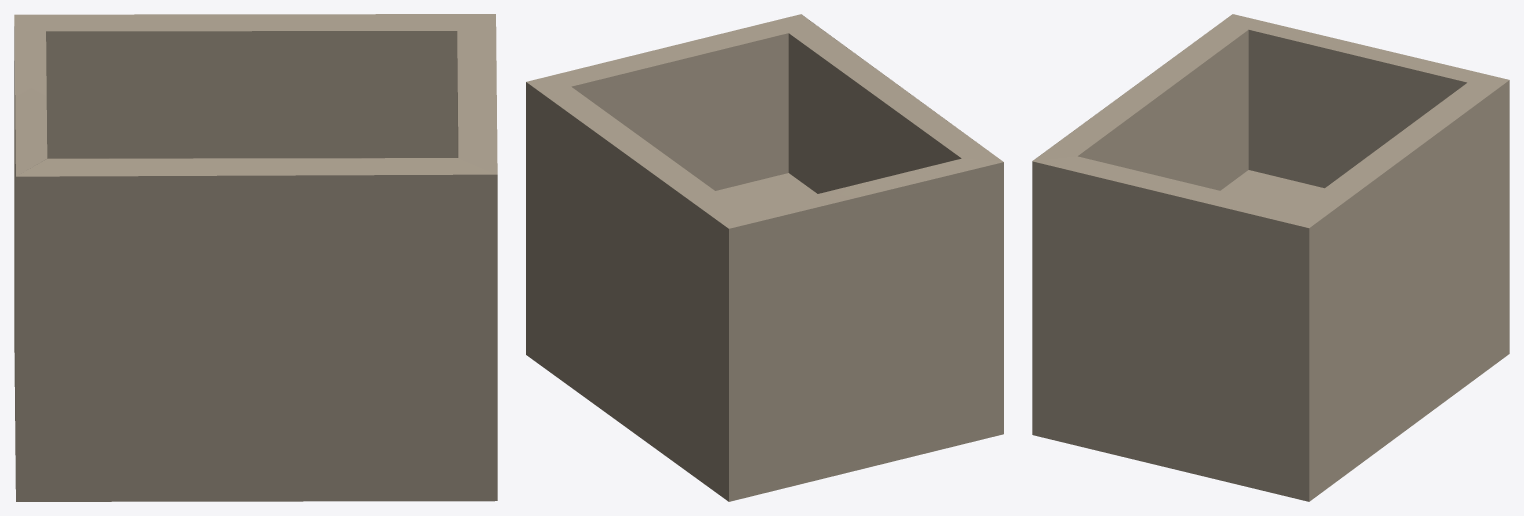
Rendered from MSH_QuestObject_cabinet_14.fbx.
3 views of the same model, side by side, from view 1: azimuth 30°, elevation 25°; view 2: azimuth 150°, elevation 25°; view 3: azimuth 270°, elevation 25° (orthographic). The views are drawn at different scales.
Parts seen in each view (by area): view 1: MSH_QuestObject_cabinet_14; view 2: MSH_QuestObject_cabinet_14; view 3: MSH_QuestObject_cabinet_14.
Boxes of the visible parts, <box> form: MSH_QuestObject_cabinet_14: <box>14,14,497,501</box>; MSH_QuestObject_cabinet_14: <box>526,14,1003,501</box>; MSH_QuestObject_cabinet_14: <box>1032,14,1509,501</box>.
Bounding box in the file's own units: 0.7807 × 0.4633 × 0.7323.
